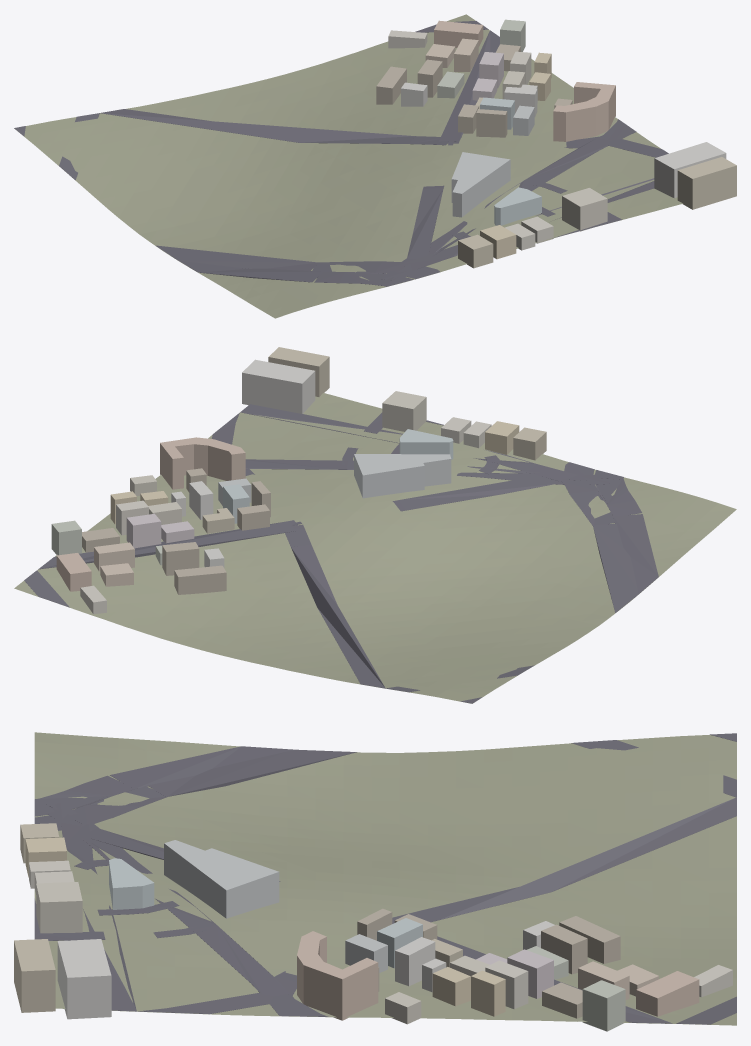
File: chunk_3_6.glb
3 renders of one model, top to bottom at view 1: azimuth 30°, elevation 25°; view 2: azimuth 150°, elevation 25°; view 3: azimuth 270°, elevation 25°, orthographic. The views are drawn at different scales.
Visible parts, largest first — view 1: geometry_35, geometry_59, geometry_7, geometry_0, geometry_14, geometry_40, geometry_49, geometry_13, geometry_5, geometry_37, geometry_43, geometry_38 (+22 smaller); view 2: geometry_35, geometry_0, geometry_7, geometry_13, geometry_59, geometry_40, geometry_39, geometry_37, geometry_43, geometry_38, geometry_49, geometry_5 (+21 smaller); view 3: geometry_35, geometry_0, geometry_59, geometry_7, geometry_13, geometry_49, geometry_40, geometry_14, geometry_43, geometry_5, geometry_34, geometry_39 (+32 smaller).
Part boxes in pixels (x1=…): geometry_35: x1=15, y1=14, x2=682, y2=318; geometry_59: x1=100, y1=109, x2=414, y2=143; geometry_7: x1=553, y1=82, x2=615, y2=141; geometry_0: x1=451, y1=152, x2=510, y2=217; geometry_14: x1=677, y1=157, x2=736, y2=209; geometry_40: x1=156, y1=245, x2=318, y2=271; geometry_49: x1=428, y1=137, x2=609, y2=255; geometry_13: x1=654, y1=142, x2=726, y2=198; geometry_5: x1=562, y1=188, x2=607, y2=231; geometry_37: x1=407, y1=141, x2=458, y2=258; geometry_43: x1=178, y1=260, x2=322, y2=282; geometry_38: x1=439, y1=30, x2=499, y2=141; geometry_35: x1=14, y1=393, x2=736, y2=703; geometry_0: x1=354, y1=454, x2=451, y2=498; geometry_7: x1=160, y1=437, x2=245, y2=489; geometry_13: x1=242, y1=359, x2=315, y2=413; geometry_59: x1=291, y1=544, x2=385, y2=688; geometry_40: x1=593, y1=523, x2=637, y2=612; geometry_39: x1=240, y1=404, x2=577, y2=482; geometry_37: x1=289, y1=475, x2=555, y2=530; geometry_43: x1=613, y1=514, x2=658, y2=594; geometry_38: x1=38, y1=521, x2=295, y2=569; geometry_49: x1=245, y1=459, x2=539, y2=480; geometry_5: x1=382, y1=391, x2=426, y2=431; geometry_35: x1=34, y1=732, x2=736, y2=1025; geometry_0: x1=164, y1=840, x2=279, y2=918; geometry_59: x1=420, y1=797, x2=736, y2=920; geometry_7: x1=297, y1=931, x2=378, y2=1020; geometry_13: x1=57, y1=939, x2=111, y2=1019; geometry_49: x1=83, y1=839, x2=290, y2=996; geometry_40: x1=147, y1=749, x2=356, y2=796; geometry_14: x1=14, y1=939, x2=55, y2=1012; geometry_43: x1=110, y1=746, x2=296, y2=789; geometry_5: x1=36, y1=882, x2=82, y2=933; geometry_34: x1=636, y1=971, x2=699, y2=1016; geometry_39: x1=60, y1=822, x2=136, y2=1011.
Bounding box in the file's own units: 256 × 32.36 × 257.
